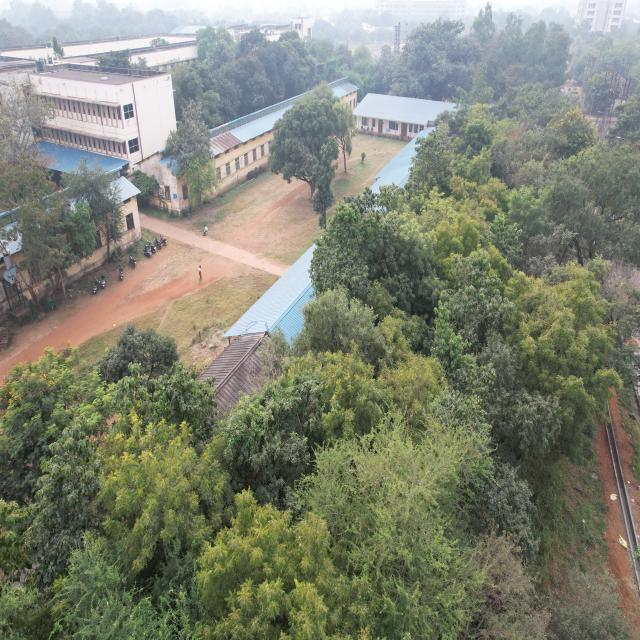Devakanchan tree: (235, 396, 306, 517), (328, 212, 398, 291)
Mango Tree: (248, 96, 367, 241)
Neem Tree: (213, 530, 335, 640), (115, 451, 199, 575), (329, 345, 424, 447), (521, 273, 602, 386), (439, 183, 482, 289)
